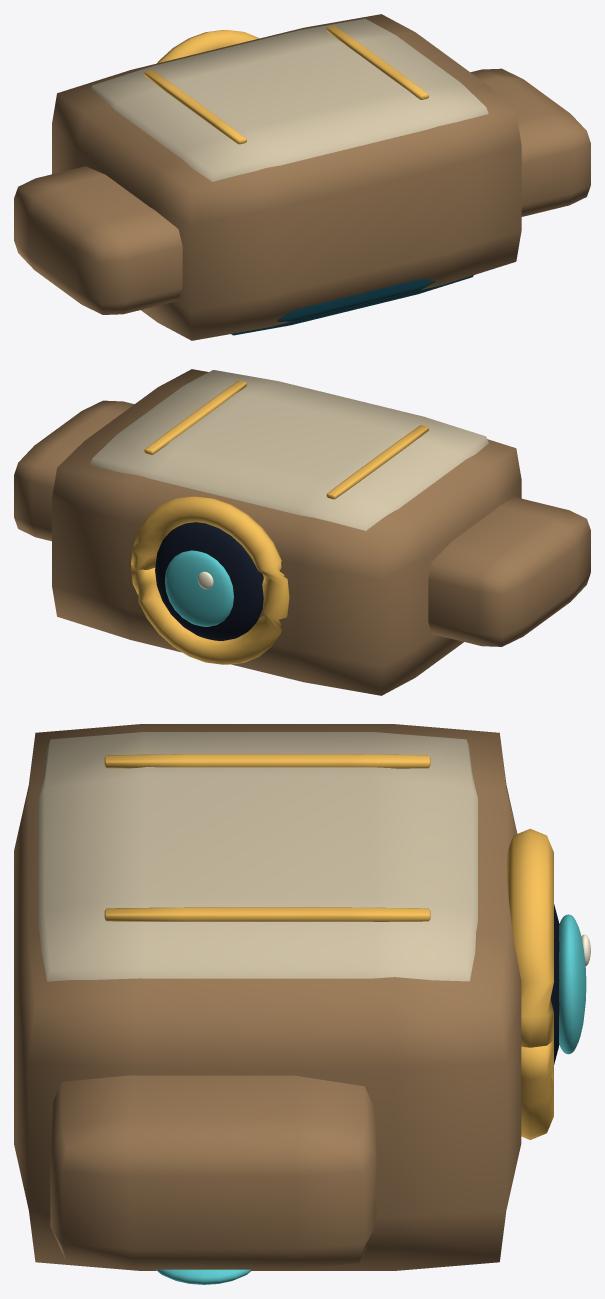
File: GuardianDrone.glb
The picture shows the model from 3 angles, top to bottom: view 1: azimuth 30°, elevation 25°; view 2: azimuth 150°, elevation 25°; view 3: azimuth 270°, elevation 25°; orthographic projection. The views are drawn at different scales.
Parts seen in each view (by area): view 1: GuardianDrone__Body; view 2: GuardianDrone__Body, GuardianDrone__Aperture; view 3: GuardianDrone__Body, GuardianDrone__Aperture.
Part boxes in pixels (left/top/right/bottom): GuardianDrone__Body: left=14, top=14, right=590, bottom=340; GuardianDrone__Body: left=14, top=369, right=590, bottom=695; GuardianDrone__Aperture: left=165, top=550, right=233, bottom=626; GuardianDrone__Body: left=14, top=724, right=559, bottom=1284; GuardianDrone__Aperture: left=559, top=914, right=590, bottom=1054.
Bounding box in the file's own units: 1.54 × 0.539 × 0.8918.
1 material, 1 textured.
